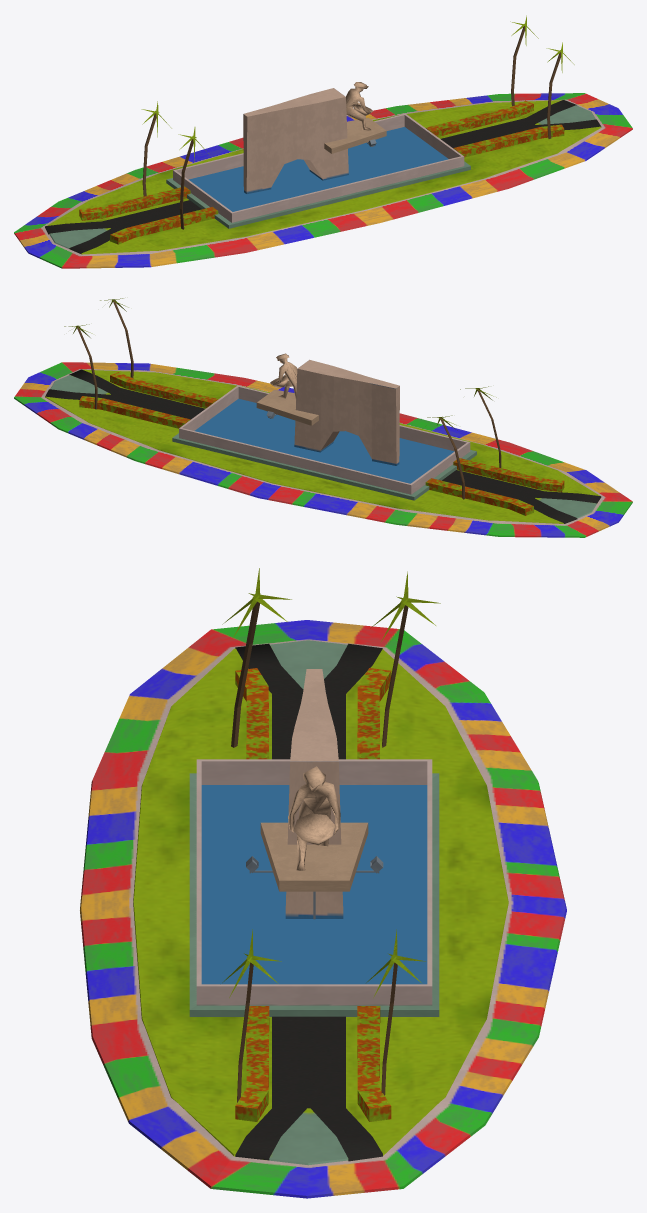
File: garimpeiroLOD2.fbx
The picture shows the model from 3 angles, top to bottom: view 1: azimuth 30°, elevation 25°; view 2: azimuth 150°, elevation 25°; view 3: azimuth 270°, elevation 25°; orthographic projection. The views are drawn at different scales.
Visible parts, largest first — view 1: GarimpeiroLOD2; view 2: GarimpeiroLOD2; view 3: GarimpeiroLOD2.
Part boxes in pixels (left/top/right/bottom): GarimpeiroLOD2: left=14, top=15, right=632, bottom=268; GarimpeiroLOD2: left=14, top=298, right=632, bottom=537; GarimpeiroLOD2: left=80, top=568, right=566, bottom=1198.
Size of the model in its own units: 3240 by 507 by 1158.
